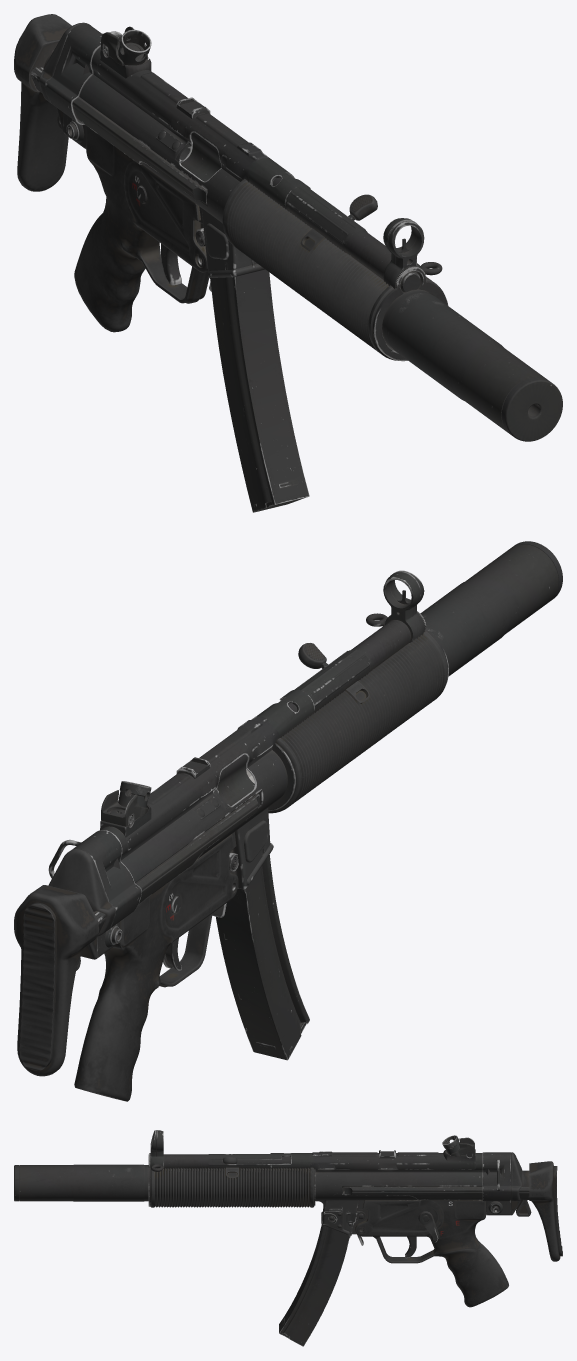
3 views of the same model, one above another, from view 1: azimuth 30°, elevation 25°; view 2: azimuth 150°, elevation 25°; view 3: azimuth 270°, elevation 25° (orthographic). The views are drawn at different scales.
Parts seen in each view (by area): view 1: MP5SD_CS2; view 2: MP5SD_CS2; view 3: MP5SD_CS2.
Boxes of the visible parts, x1,y1,x2,y2 form: MP5SD_CS2: (14, 14, 562, 512); MP5SD_CS2: (14, 541, 562, 1101); MP5SD_CS2: (14, 1130, 562, 1346).
Size of the model in its own units: 0.067 by 0.3029 by 0.7135.
1 material, 1 textured.
